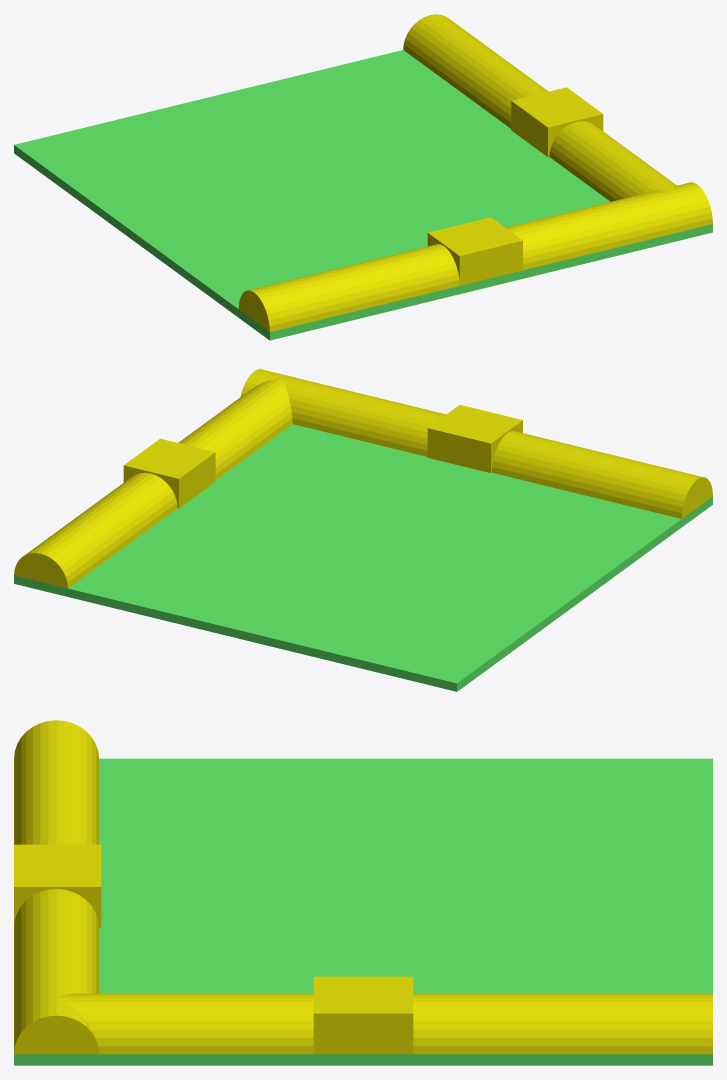
The model's file is way2.fbx.
The picture shows the model from 3 angles, top to bottom: view 1: azimuth 30°, elevation 25°; view 2: azimuth 150°, elevation 25°; view 3: azimuth 270°, elevation 25°; orthographic projection. The views are drawn at different scales.
Parts seen in each view (by area): view 1: Cube.001; view 2: Cube.001; view 3: Cube.001.
Part boxes in pixels (<box>): Cube.001: <box>14,14,712,340</box>; Cube.001: <box>14,369,712,691</box>; Cube.001: <box>14,720,712,1065</box>.
Bounding box in the file's own units: 912 × 75.09 × 912.
